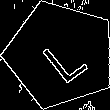L_NW: (32, 25, 89, 84)
